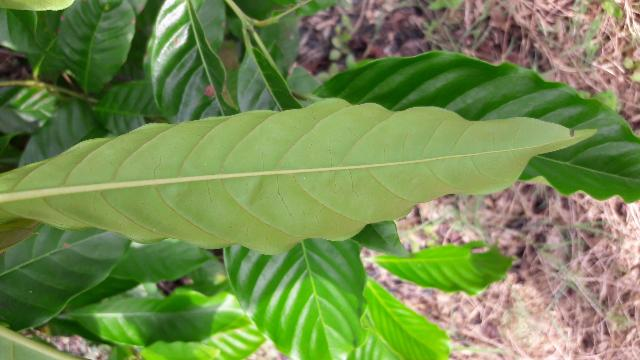healthy: (0, 97, 592, 254)
